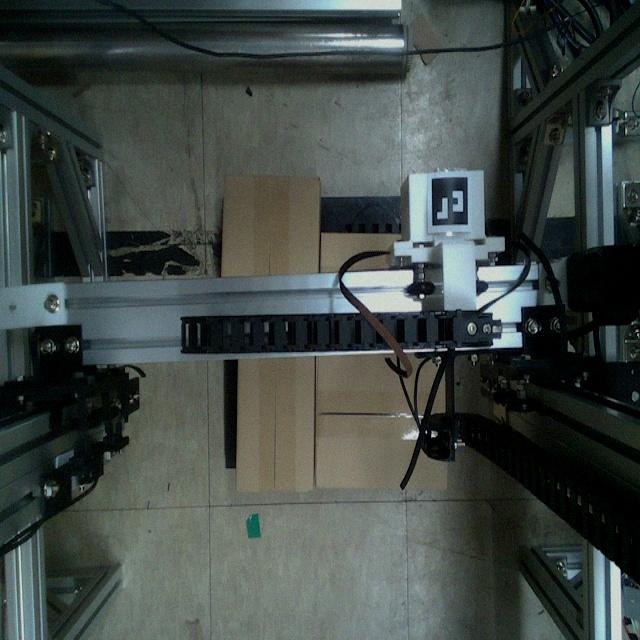box: (236, 354, 316, 494)
